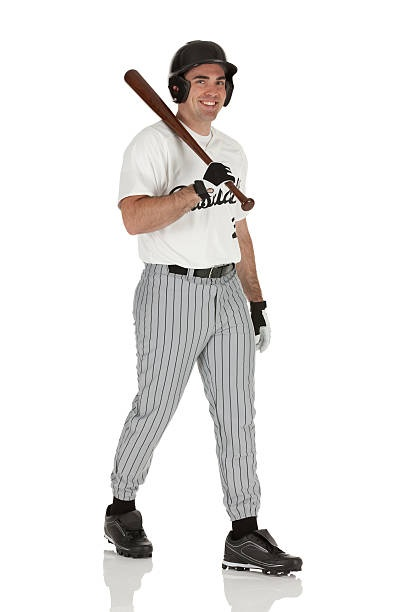bita: (126, 60, 254, 211)
